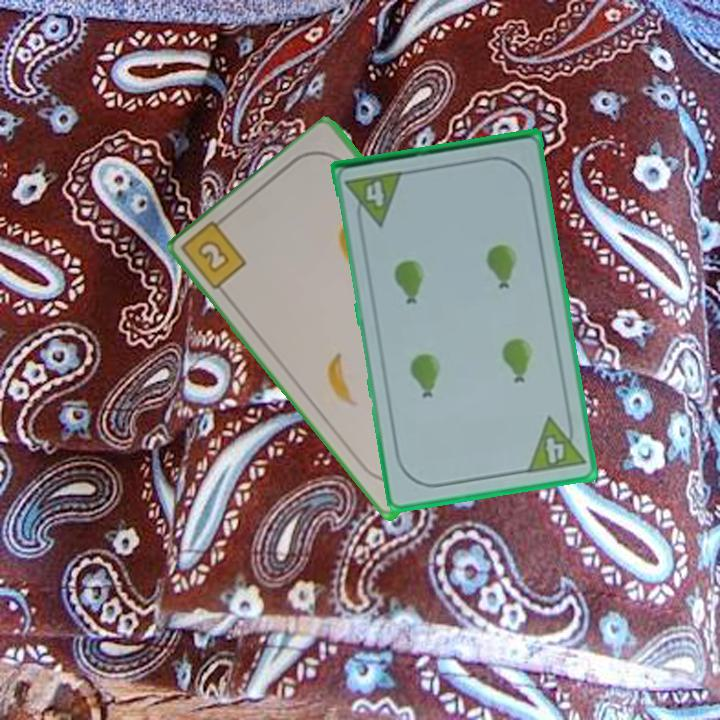2b: (181, 211, 251, 294)
4p: (523, 410, 588, 476), (342, 168, 407, 232)
